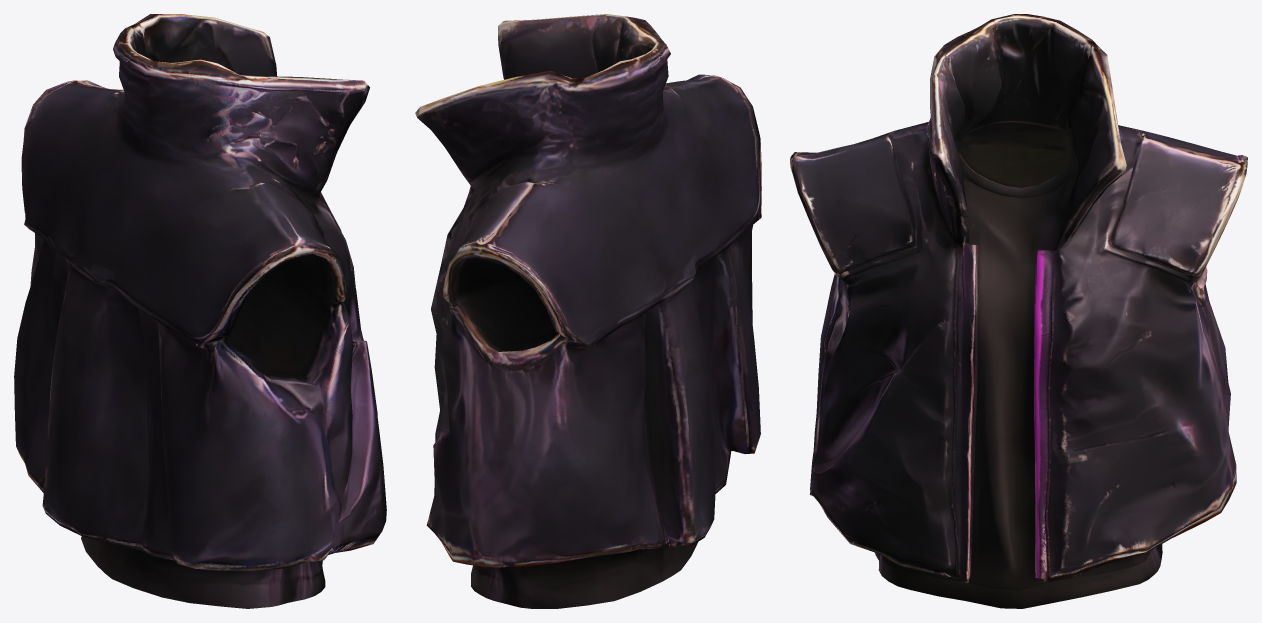
Rendered from chest.glb.
3 renders of one model, left to right at view 1: azimuth 30°, elevation 25°; view 2: azimuth 150°, elevation 25°; view 3: azimuth 270°, elevation 25°, orthographic. The views are drawn at different scales.
Parts seen in each view (by area): view 1: tripo_node_11bb7e47-c456-49e2-8e92-23eb37d6ea1b; view 2: tripo_node_11bb7e47-c456-49e2-8e92-23eb37d6ea1b; view 3: tripo_node_11bb7e47-c456-49e2-8e92-23eb37d6ea1b.
Boxes of the visible parts, <box> form: tripo_node_11bb7e47-c456-49e2-8e92-23eb37d6ea1b: <box>14,14,386,608</box>; tripo_node_11bb7e47-c456-49e2-8e92-23eb37d6ea1b: <box>415,14,761,608</box>; tripo_node_11bb7e47-c456-49e2-8e92-23eb37d6ea1b: <box>790,14,1247,608</box>.
Size of the model in its own units: 0.5464 by 0.9995 by 0.8042.
1 material, 1 textured.
